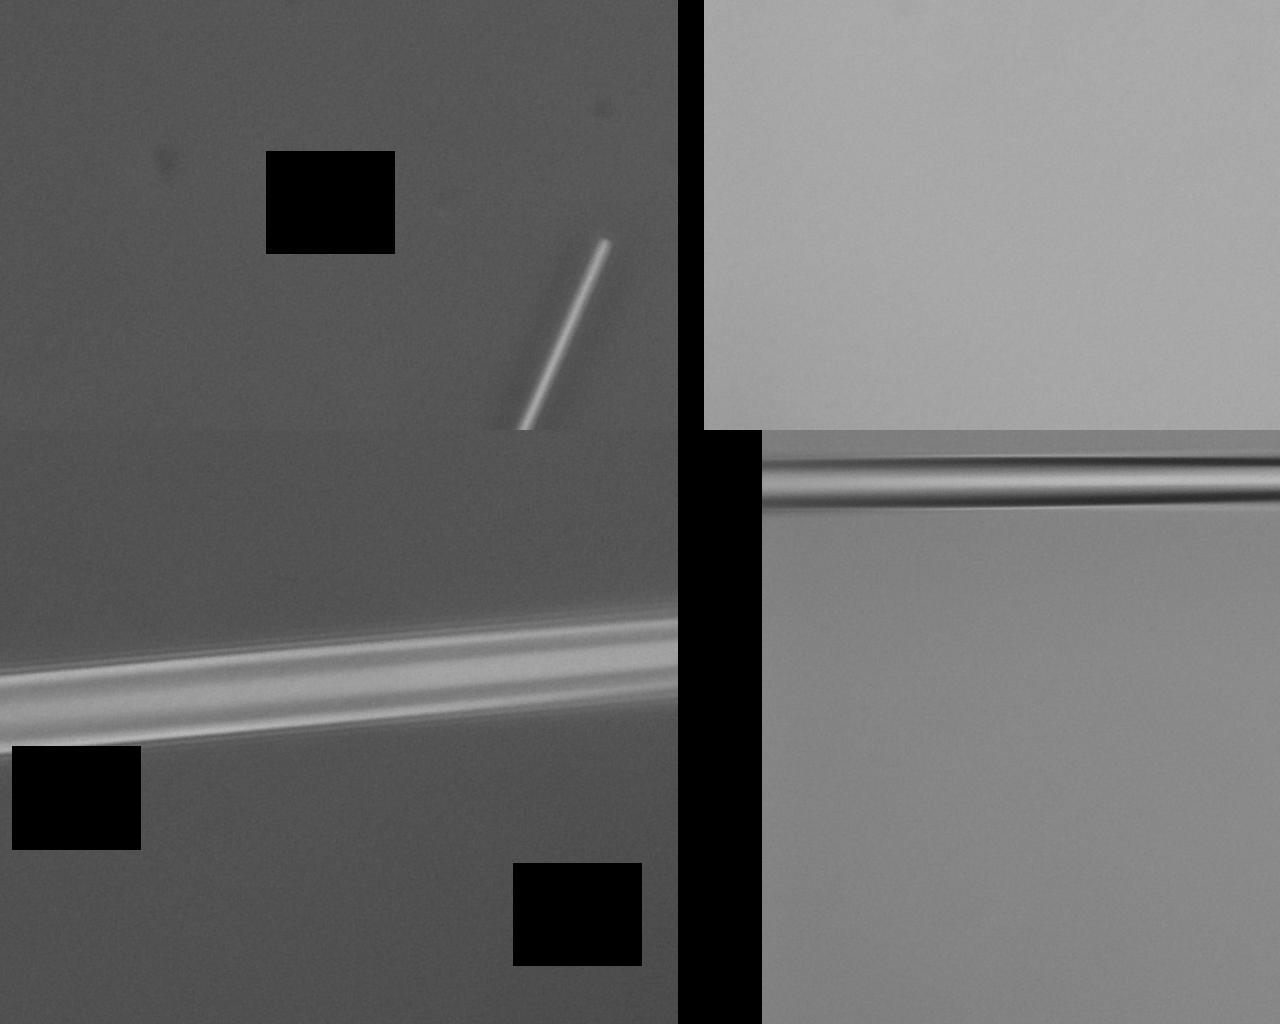fiber: (72, 0, 215, 542), (829, 0, 865, 542)
